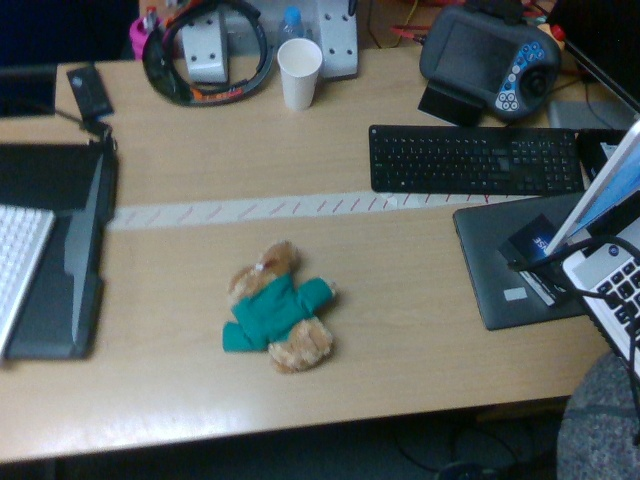teddy: (223, 241, 334, 371)
